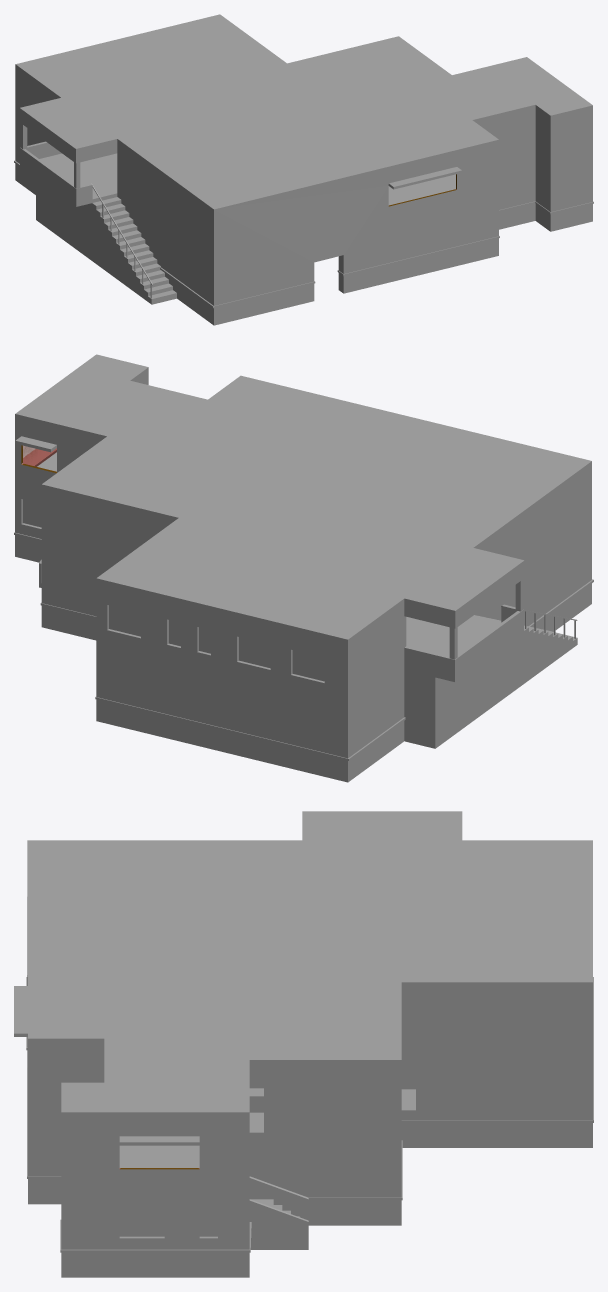
Rendered from House1.fbx.
3 views of the same model, one above another, from view 1: azimuth 30°, elevation 25°; view 2: azimuth 150°, elevation 25°; view 3: azimuth 270°, elevation 25° (orthographic). The views are drawn at different scales.
Visible parts, largest first — view 1: House; view 2: House; view 3: House.
Boxes of the visible parts, x1=… form: House: x1=14, y1=14, x2=593, y2=325; House: x1=14, y1=354, x2=593, y2=782; House: x1=14, y1=811, x2=593, y2=1277.
Bounding box in the file's own units: 16.04 × 4.04 × 12.81.
Materials: 8 (2 with a texture image).
